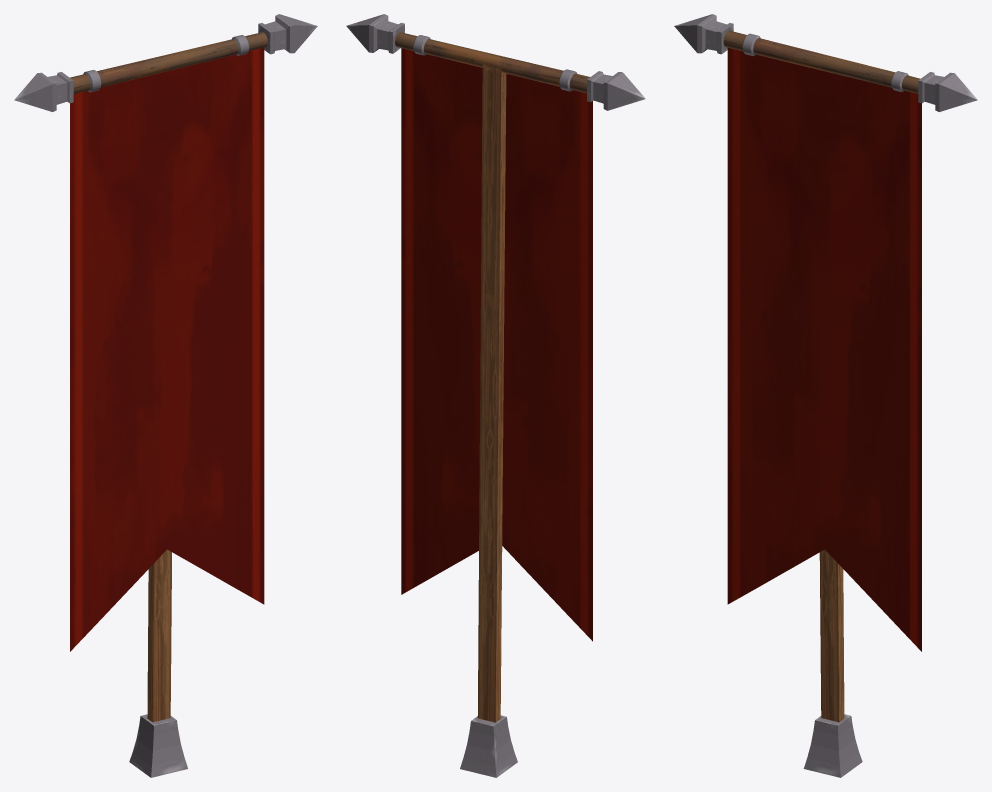
File: Banner_Vertical_1.gltf
3 renders of one model, left to right at view 1: azimuth 30°, elevation 25°; view 2: azimuth 150°, elevation 25°; view 3: azimuth 330°, elevation 25°, orthographic.
Parts seen in each view (by area): view 1: Banner_Vertical_1; view 2: Banner_Vertical_1; view 3: Banner_Vertical_1.
Boxes of the visible parts, x1=… form: Banner_Vertical_1: x1=14, y1=14, x2=317, y2=777; Banner_Vertical_1: x1=346, y1=14, x2=645, y2=777; Banner_Vertical_1: x1=674, y1=14, x2=977, y2=777.
Size of the model in its own units: 1.04 by 2.35 by 0.1525.
Materials: 4 (4 with a texture image).
